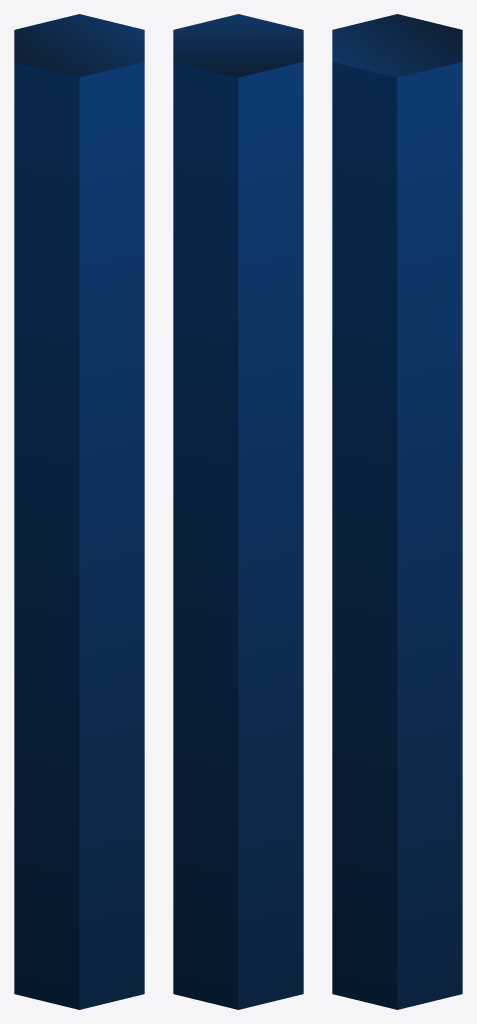
Rendered from MountainDark.fbx.
3 renders of one model, left to right at view 1: azimuth 90°, elevation 25°; view 2: azimuth 150°, elevation 25°; view 3: azimuth 270°, elevation 25°, orthographic.
Parts seen in each view (by area): view 1: MountainDark_LOD0; view 2: MountainDark_LOD0; view 3: MountainDark_LOD0.
Boxes of the visible parts, x1,y1,x2,y2 form: MountainDark_LOD0: [14, 14, 144, 1009]; MountainDark_LOD0: [173, 14, 303, 1009]; MountainDark_LOD0: [332, 14, 462, 1009].
Size of what is drawn, in the model's own units: 500 by 3410 by 433.
